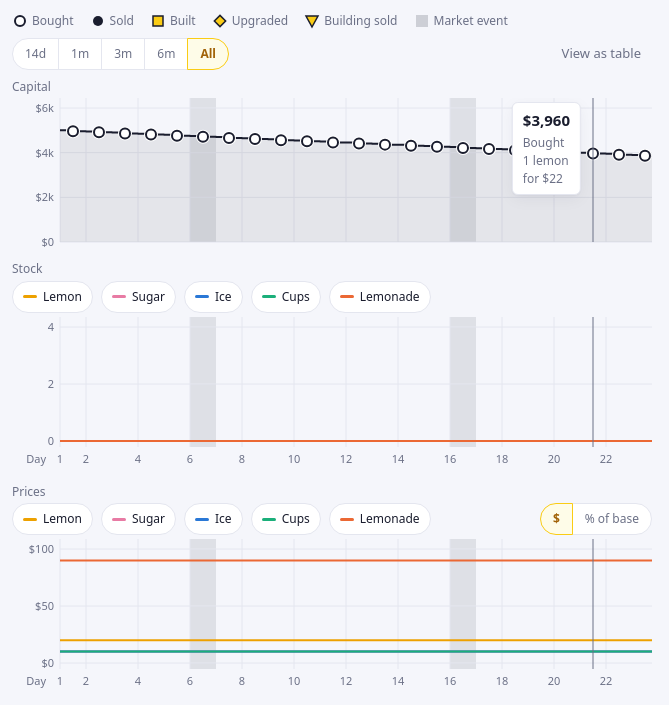
Test: TimelineChartsComponent › time range › clears the readout when the range changes
Expected: the element with class "tip" is shown, top-left (512, 102), bottom-right (581, 194)
Click the button "1m". click: (80, 54)
box: top-left (58, 38), bottom-right (102, 70)
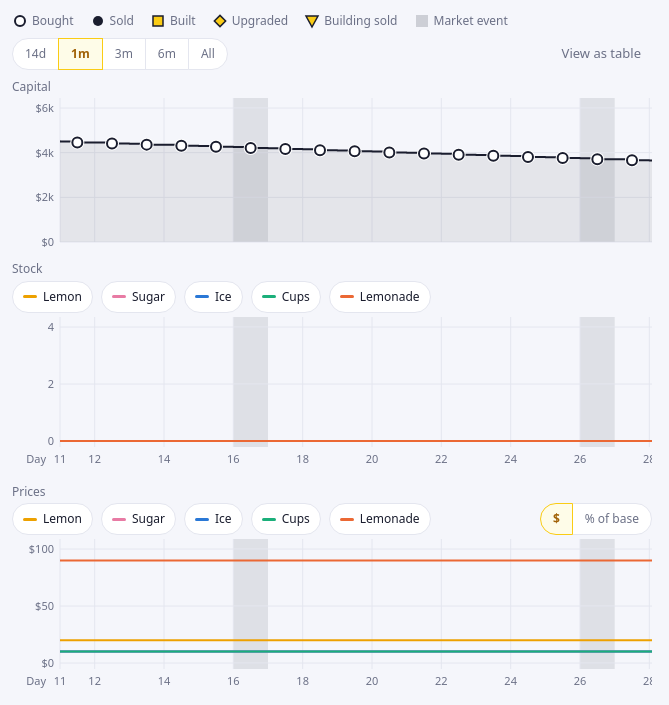
Now the element with class "tip" is gone
